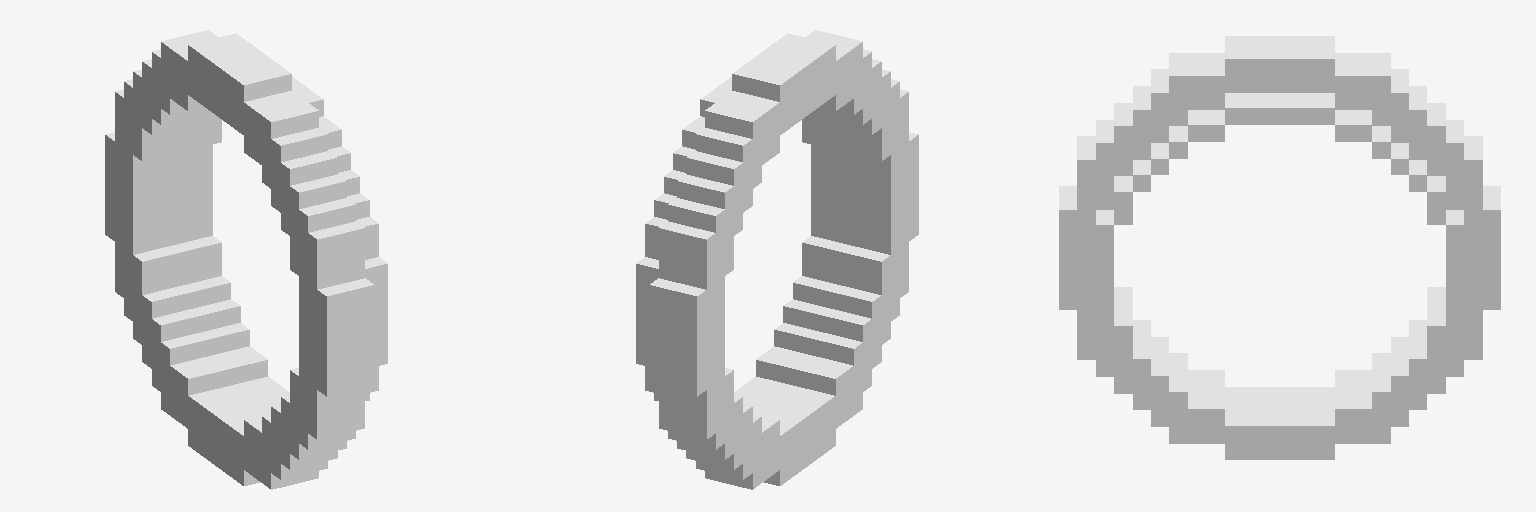
The model's file is StartStraight.obj.
3 views of the same model, side by side, from view 1: azimuth 30°, elevation 25°; view 2: azimuth 150°, elevation 25°; view 3: azimuth 270°, elevation 25° (orthographic).
Size of the model in its own units: 5 by 24 by 24.